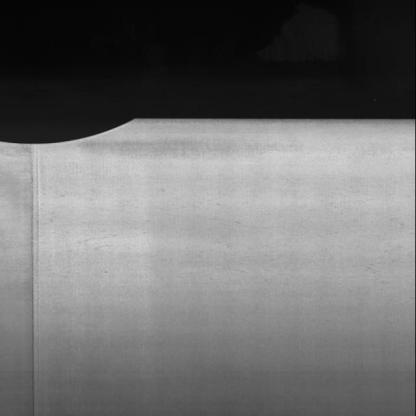crescent_gap: (0, 108, 143, 151)
welding_line: (15, 138, 47, 416)
